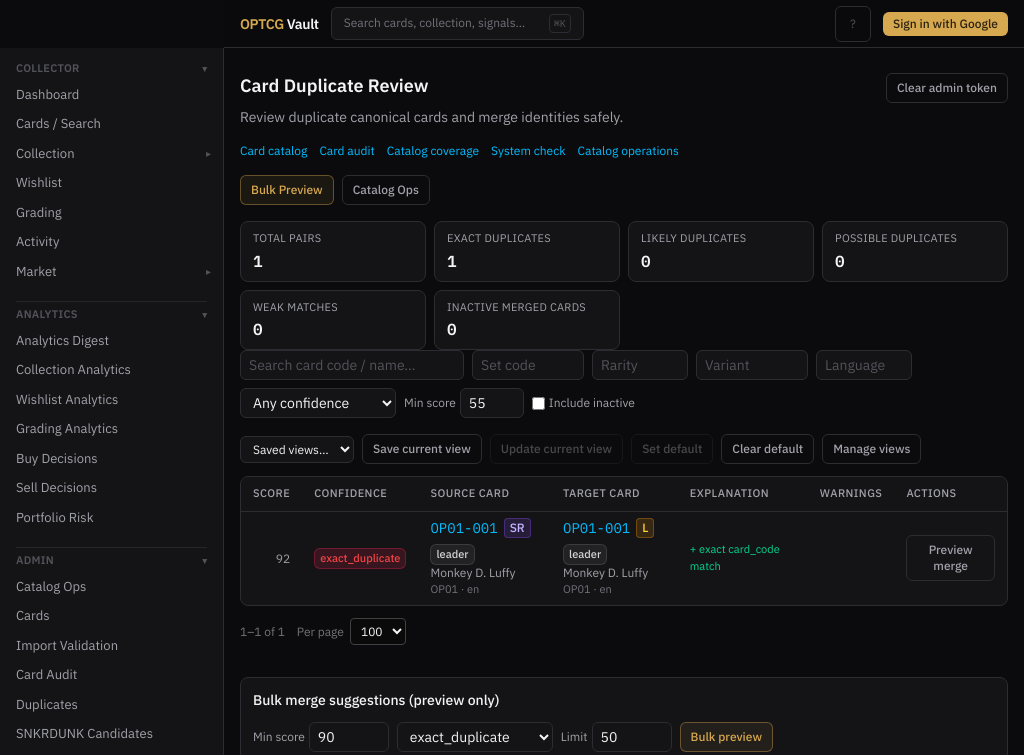
Scenario: CardDuplicatesPage › renders the dry-run merge result
Check: the link "OP01-001" next to "SR" is shown, box [430,518,498,538]
Click the button "Preview merge" at [951, 558], box [906,535,995,581]
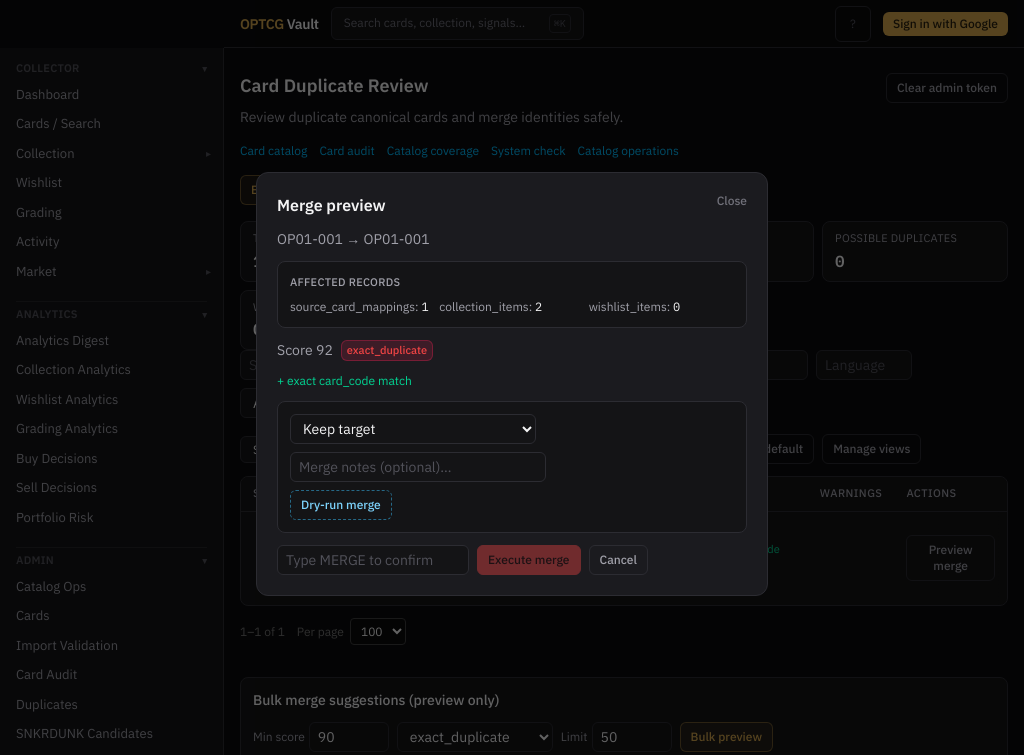
Check: the button "Dry-run merge" is shown
Click the button "Dry-run merge" at [341, 505], box [290,490,392,520]
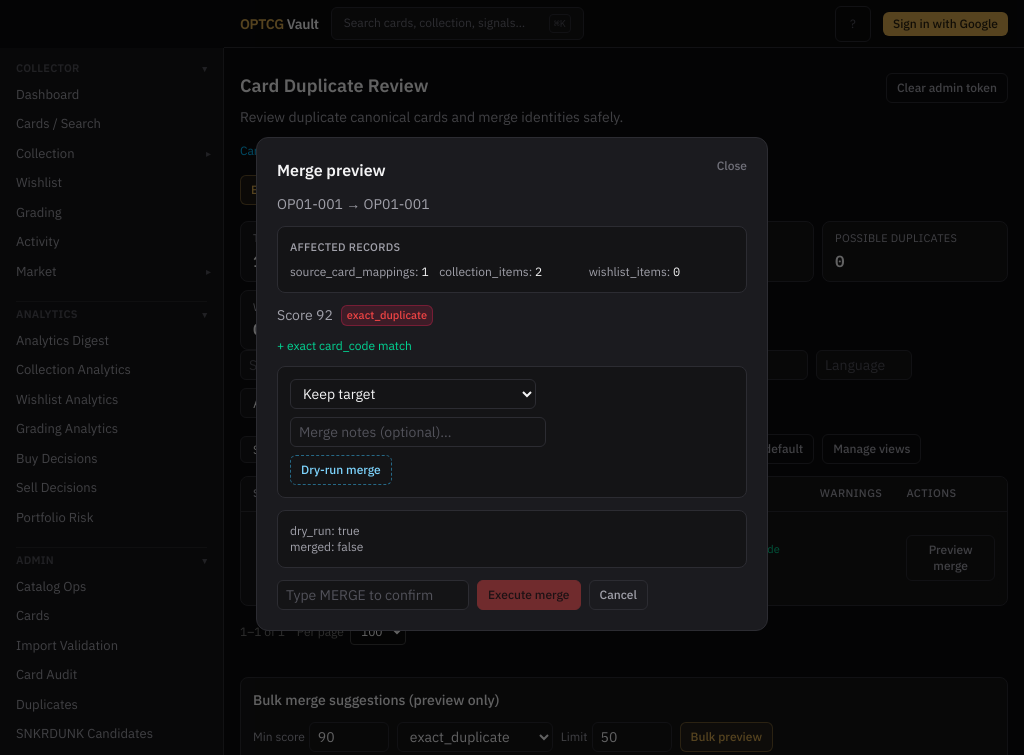
Check: the text "dry_run: true" is shown, box [290,523,360,538]
